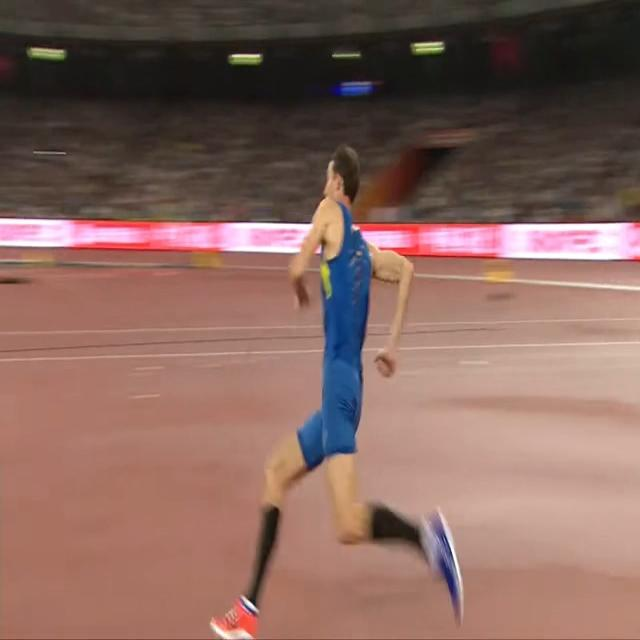run: (210, 143, 464, 640)
